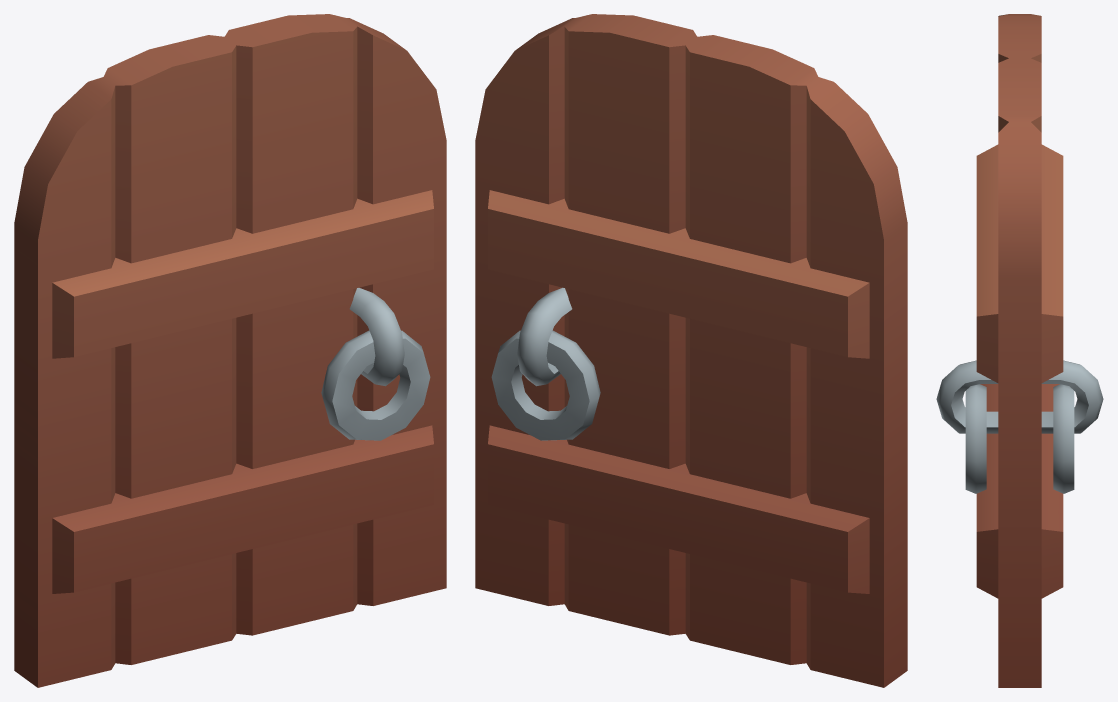
File: wall_doorway_scaffold_door.gltf
3 renders of one model, left to right at view 1: azimuth 30°, elevation 25°; view 2: azimuth 150°, elevation 25°; view 3: azimuth 270°, elevation 25°, orthographic. The views are drawn at different scales.
Visible parts, largest first — view 1: wall_doorway_scaffold_door; view 2: wall_doorway_scaffold_door; view 3: wall_doorway_scaffold_door.
Boxes of the visible parts, left/top/right/bottom form: wall_doorway_scaffold_door: left=14, top=14, right=446, bottom=687; wall_doorway_scaffold_door: left=475, top=14, right=907, bottom=687; wall_doorway_scaffold_door: left=936, top=14, right=1103, bottom=687.
Bounding box in the file's own units: 2 × 2.75 × 0.7735.
1 material, 1 textured.
